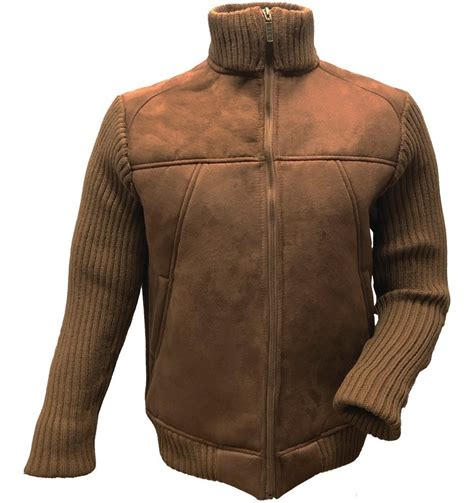gamuza: (121, 58, 404, 500)
